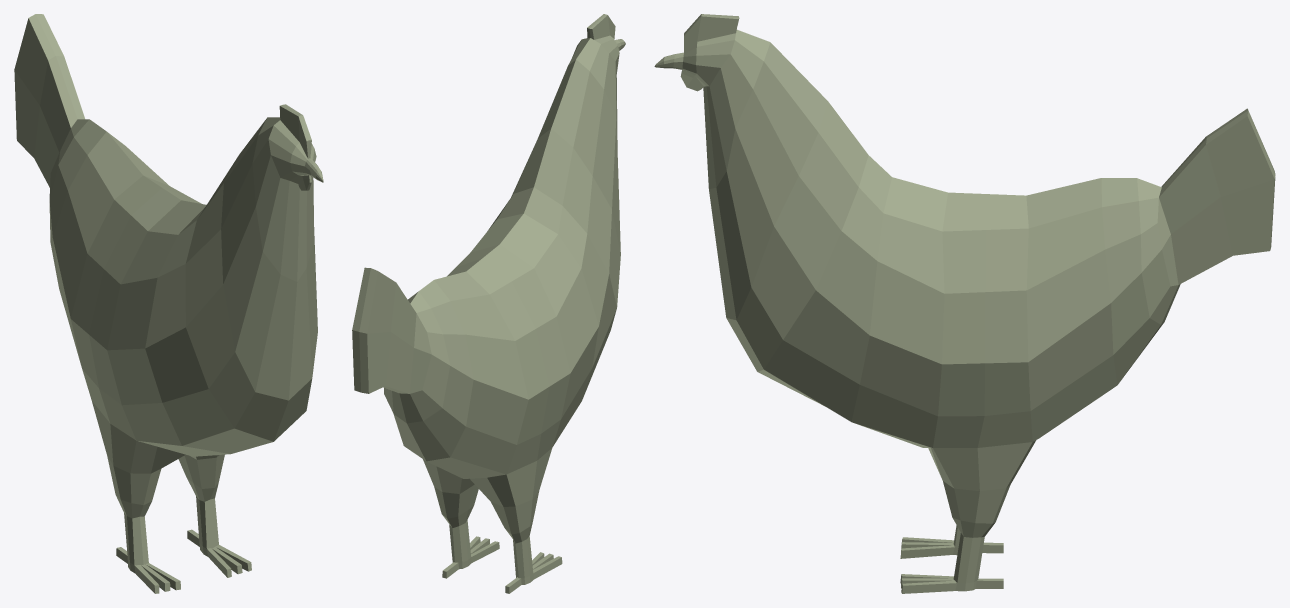
The model's file is chicken_final_plane.glb.
3 views of the same model, side by side, from view 1: azimuth 30°, elevation 25°; view 2: azimuth 150°, elevation 25°; view 3: azimuth 270°, elevation 25° (orthographic). The views are drawn at different scales.
Visible parts, largest first — view 1: chicken_final_plane; view 2: chicken_final_plane; view 3: chicken_final_plane.
Part boxes in pixels (box(x1,y1,x2,y2)): chicken_final_plane: box(14, 14, 323, 593); chicken_final_plane: box(352, 14, 625, 593); chicken_final_plane: box(654, 14, 1275, 593).
Bounding box in the file's own units: 0.1421 × 0.4752 × 0.4811.
